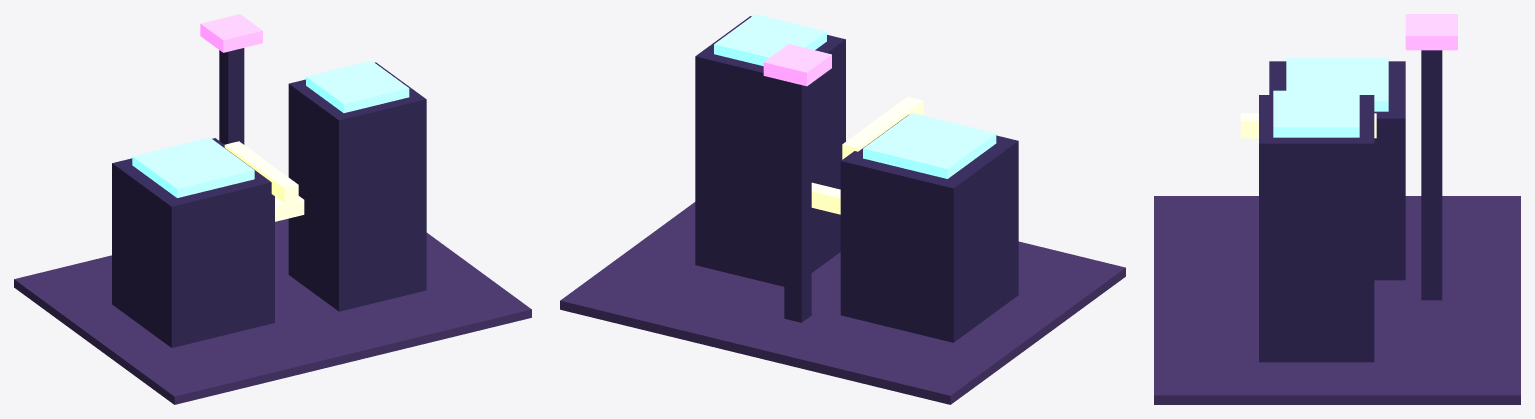
The model's file is 06_utility_tank_stack.glb.
The picture shows the model from 3 angles, left to right: view 1: azimuth 30°, elevation 25°; view 2: azimuth 150°, elevation 25°; view 3: azimuth 270°, elevation 25°; orthographic projection. The views are drawn at different scales.
Visible parts, largest first — view 1: ground_0, tank_3, tank_1, tank_top_2, tank_top_4, chimney_5, chimney_cap_6, connector_pipe2_8, connector_pipe_7; view 2: ground_0, tank_1, tank_3, chimney_5, tank_top_2, tank_top_4, chimney_cap_6, connector_pipe2_8, connector_pipe_7; view 3: ground_0, tank_3, tank_1, chimney_5, tank_top_4, tank_top_2, chimney_cap_6, connector_pipe2_8.
Boxes of the visible parts, x1,y1,x2,y2 form: ground_0: (14,218,531,404); tank_3: (288,62,426,311); tank_1: (112,138,274,347); tank_top_2: (132,137,254,197); tank_top_4: (306,60,409,112); chimney_5: (219,48,244,144); chimney_cap_6: (200,14,262,52); connector_pipe2_8: (224,141,298,203); connector_pipe_7: (275,196,304,221); ground_0: (560,202,1125,404); tank_1: (840,115,1018,342); tank_3: (695,16,845,286); chimney_5: (784,81,811,322); tank_top_2: (863,113,996,178); tank_top_4: (714,14,826,66); chimney_cap_6: (763,44,831,86); connector_pipe2_8: (842,96,923,159); connector_pipe_7: (811,182,840,214); ground_0: (1154,196,1520,404); tank_3: (1259,95,1374,362); tank_1: (1269,61,1405,280); chimney_5: (1421,50,1442,300); tank_top_4: (1273,90,1359,137); tank_top_2: (1286,58,1388,111); chimney_cap_6: (1405,14,1457,50); connector_pipe2_8: (1240,113,1376,138).
Bounding box in the file's own units: 9 × 5.9 × 7.
